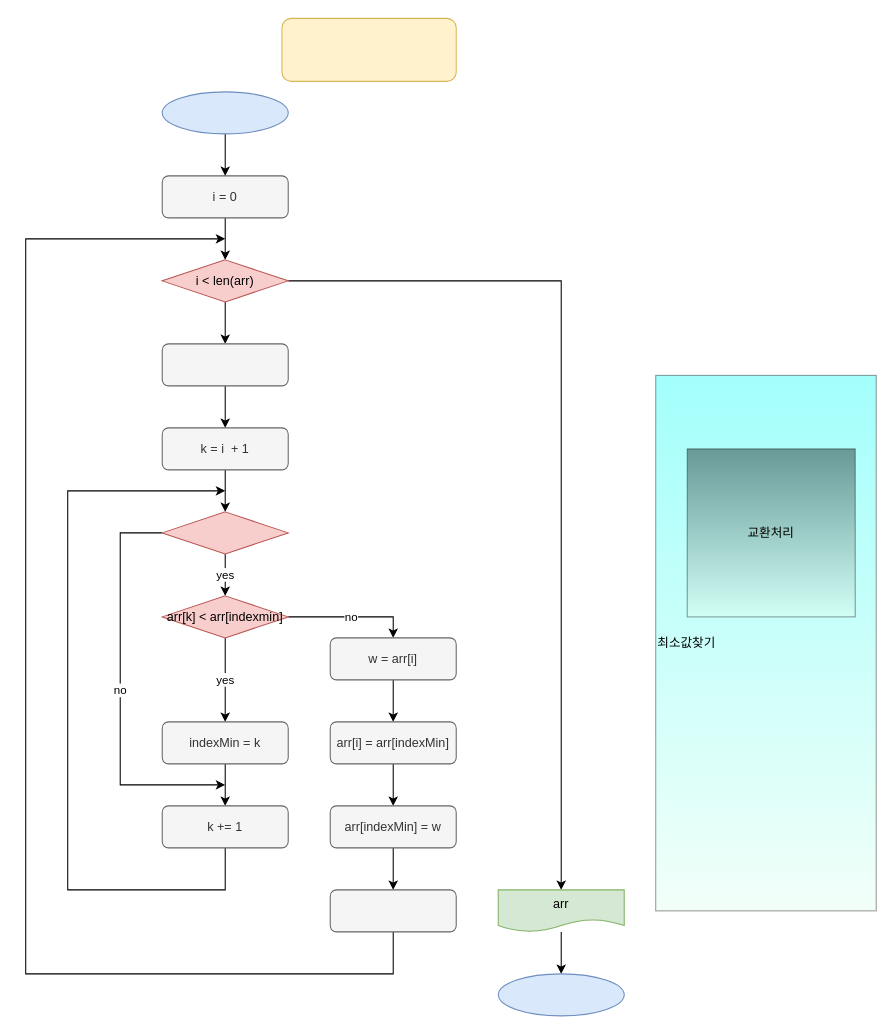
Some shapes in this 895 by 1034 pixel diagram are drawn without their labels. The centre of each missing label's shape, as x and y in pixels:
"arr[k] < len(arr)" goes at point 224,532.
"end" goes at point 560,994.
"i += 1" goes at point 392,910.
"indexMin = i" goes at point 224,364.
"Start" goes at point 224,112.
"단순 선택법" goes at point 368,49.
